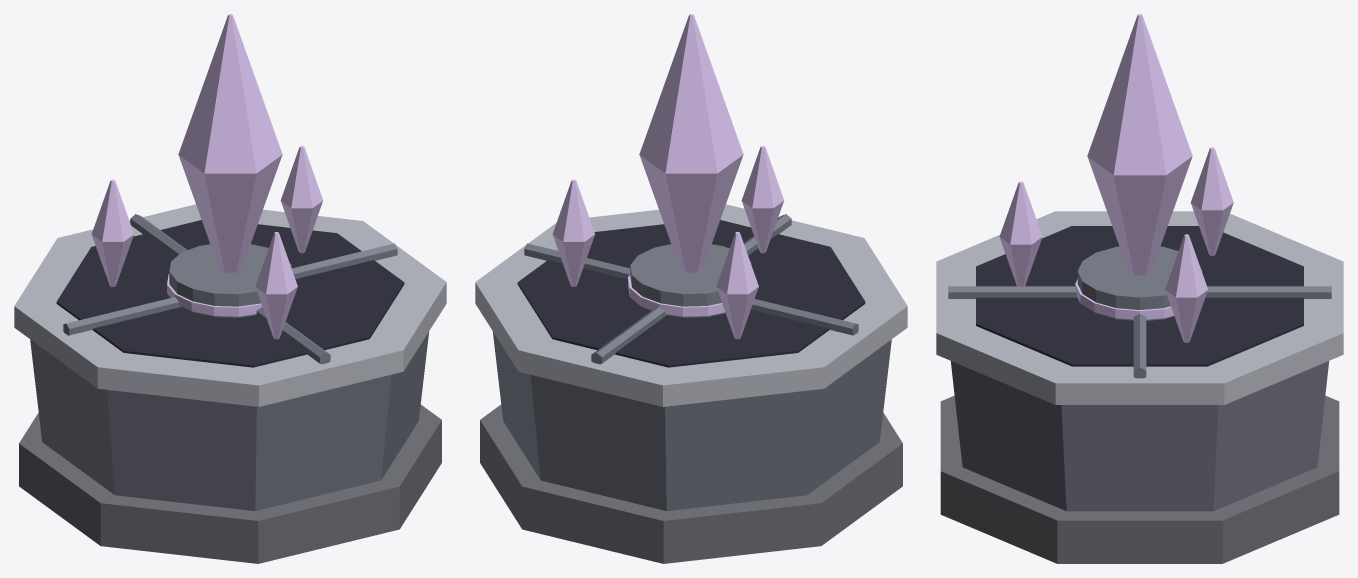
Rendered from PR_Aquecedor_Cristal.fbx.
3 views of the same model, side by side, from view 1: azimuth 30°, elevation 25°; view 2: azimuth 150°, elevation 25°; view 3: azimuth 270°, elevation 25° (orthographic).
Parts seen in each view (by area): view 1: PR_Aquecedor_Cristal; view 2: PR_Aquecedor_Cristal; view 3: PR_Aquecedor_Cristal.
Boxes of the visible parts, x1,y1,x2,y2 form: PR_Aquecedor_Cristal: (14,14,446,563); PR_Aquecedor_Cristal: (475,14,907,563); PR_Aquecedor_Cristal: (936,14,1343,563).
Size of the model in its own units: 1.7 by 2.14 by 1.7.
